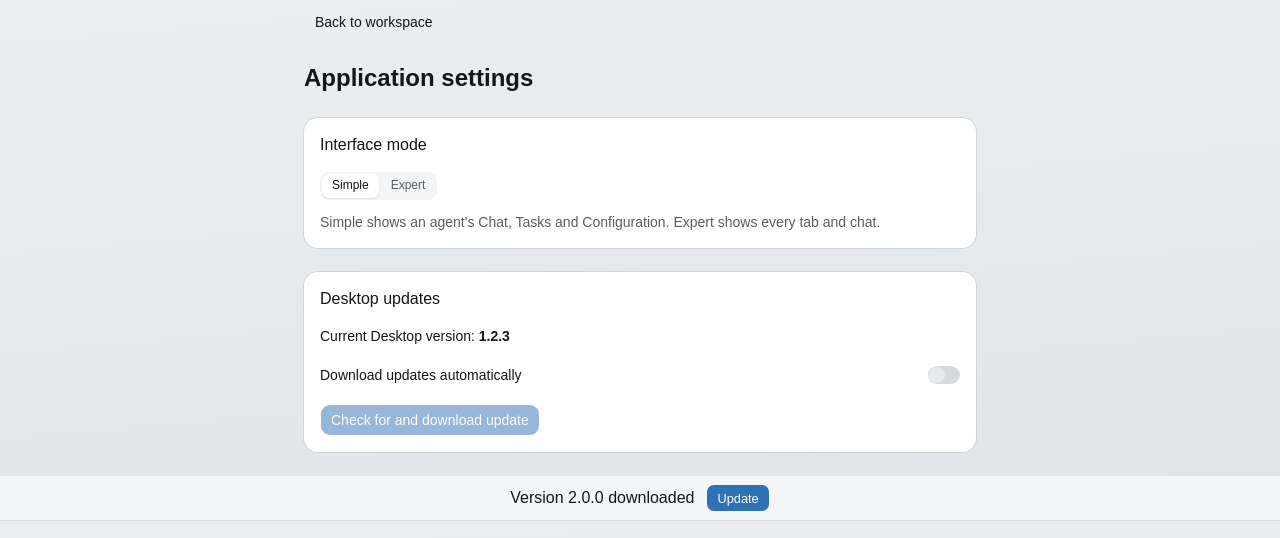
Test: Desktop updates › offers installation only for a ready verified package
Check: the text "Version 2.0.0 downloaded" is shown, box [510,486,694,510]
Click the button "Update". click: (738, 498)
box: [706,484,770,512]
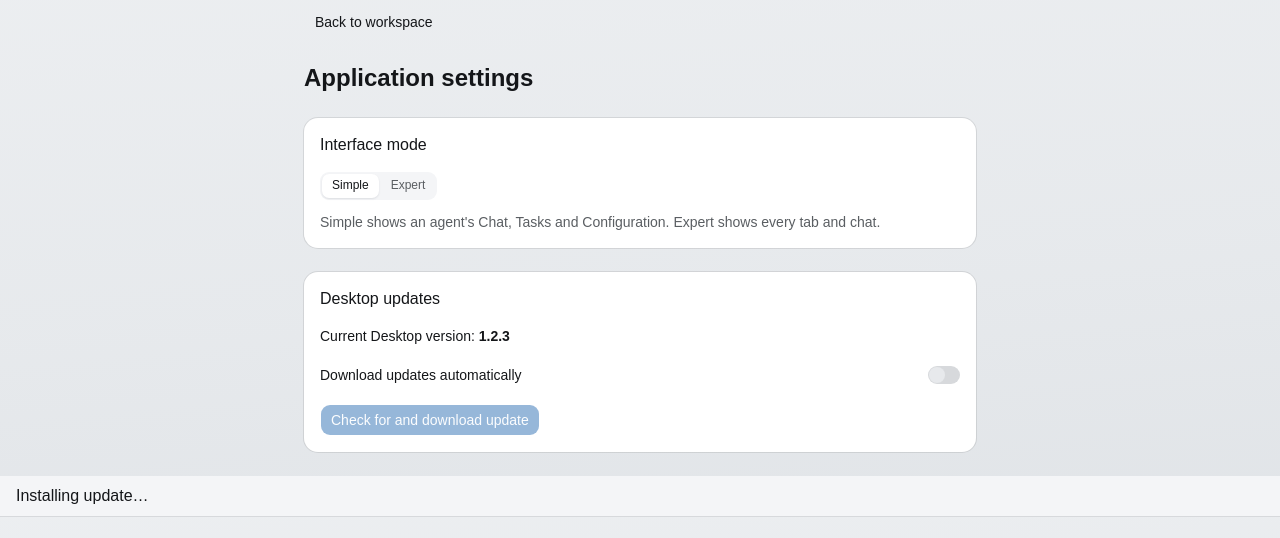
Check: the message shows "Installing update", box [16,487,148,504]
